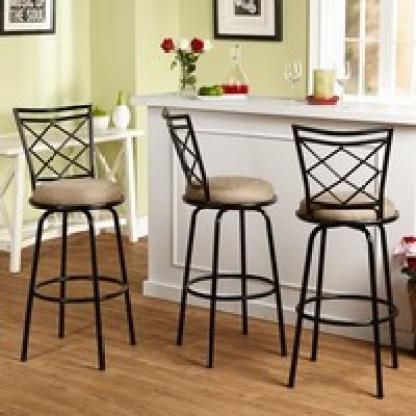chair: (7, 85, 136, 370), (290, 117, 409, 404), (162, 102, 290, 366)
table: (137, 87, 416, 344), (0, 129, 132, 264)
